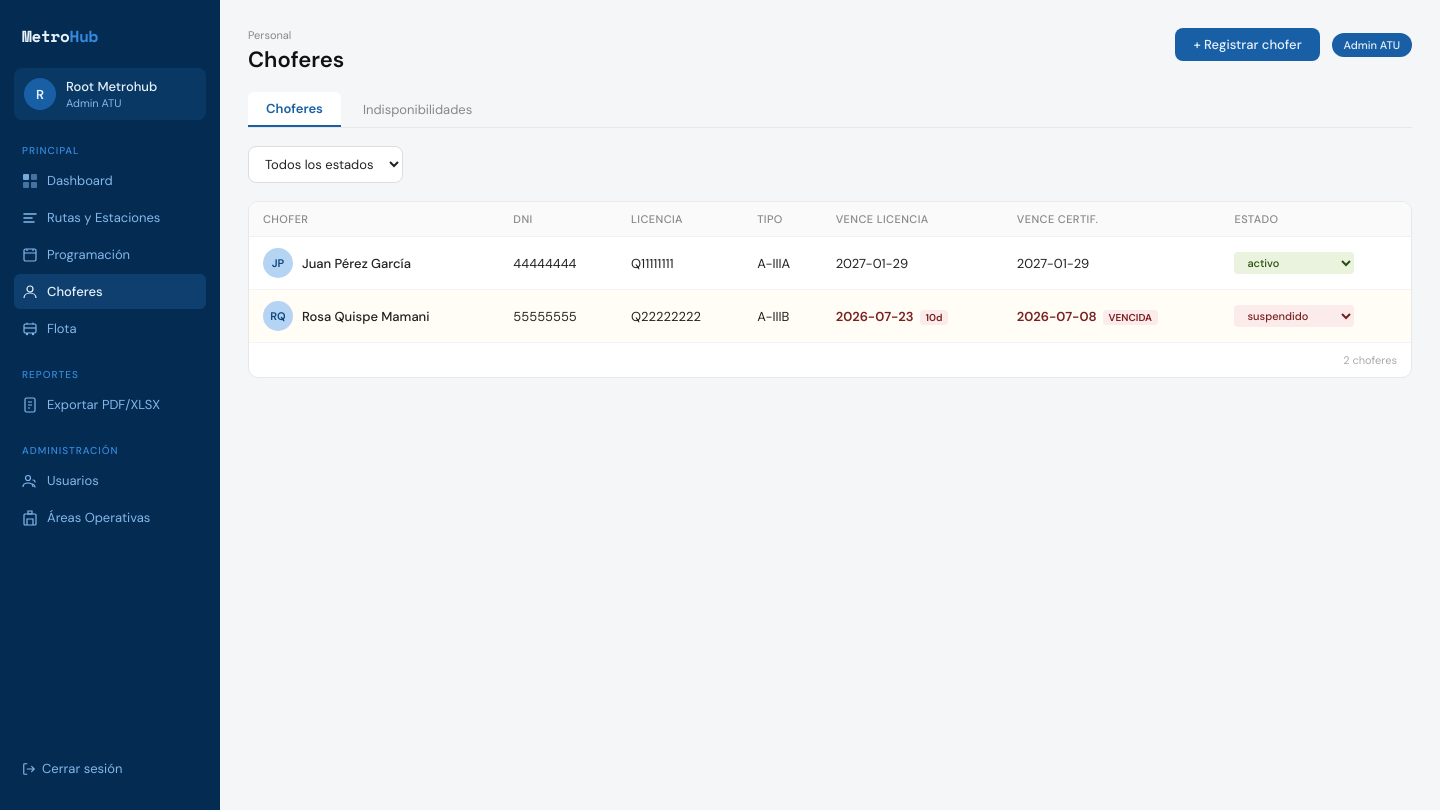
Test: Choferes (RF03) › la pestaña Indisponibilidades lista los registros y permite eliminar
Check: the text "Juan Pérez García" is shown, box [302,254,411,272]
Click the button "Indisponibilidades". click: (418, 110)
box: [345,92,490,127]
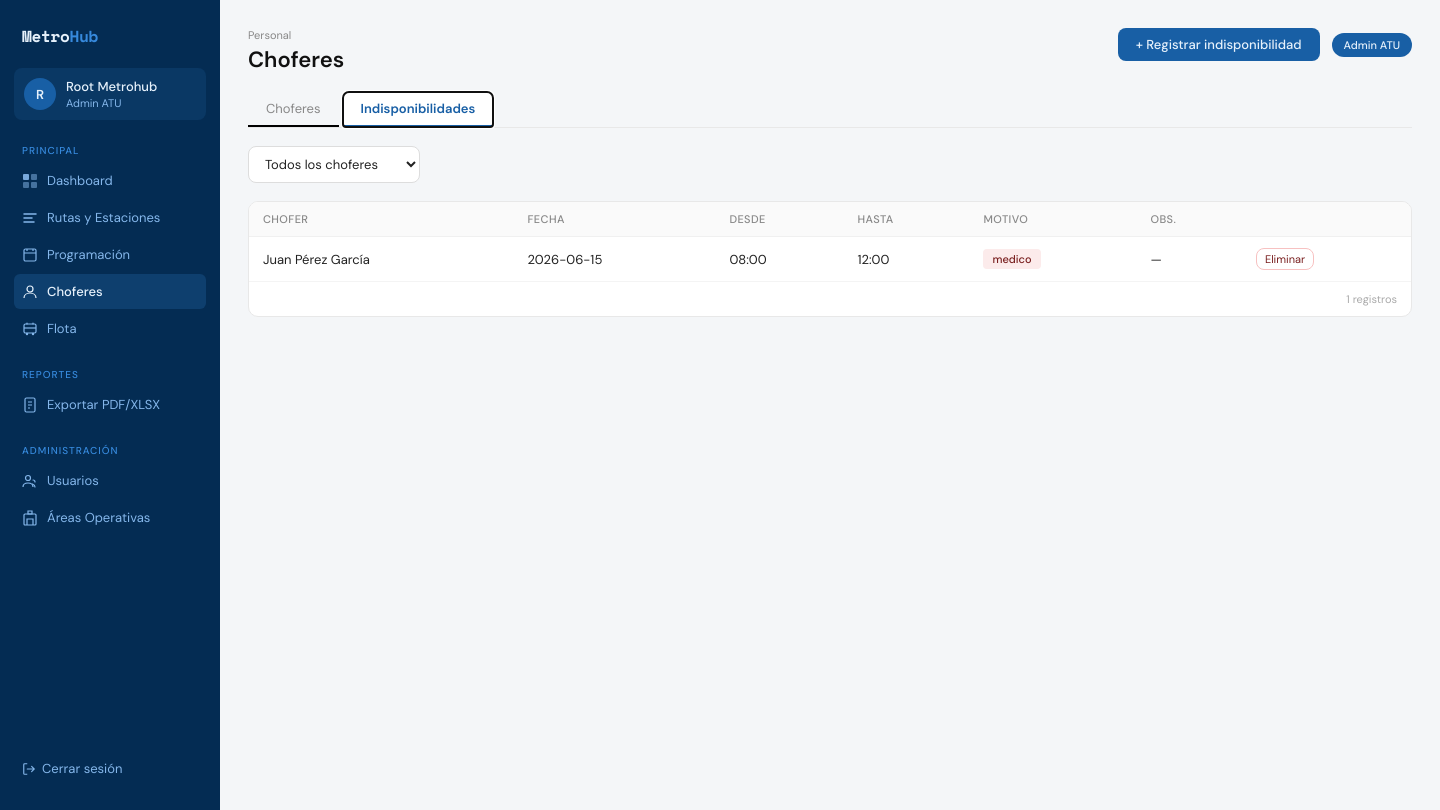
Check: the text "medico" is shown, box [992,252,1032,266]
Check: the text "2026-06-15" is shown, box [528,250,602,268]
Check: the text "1 registros" is shown, box [1346,292,1397,306]
Click the button "Eliminar". click: (1285, 259)
box: [1256,248,1314,270]
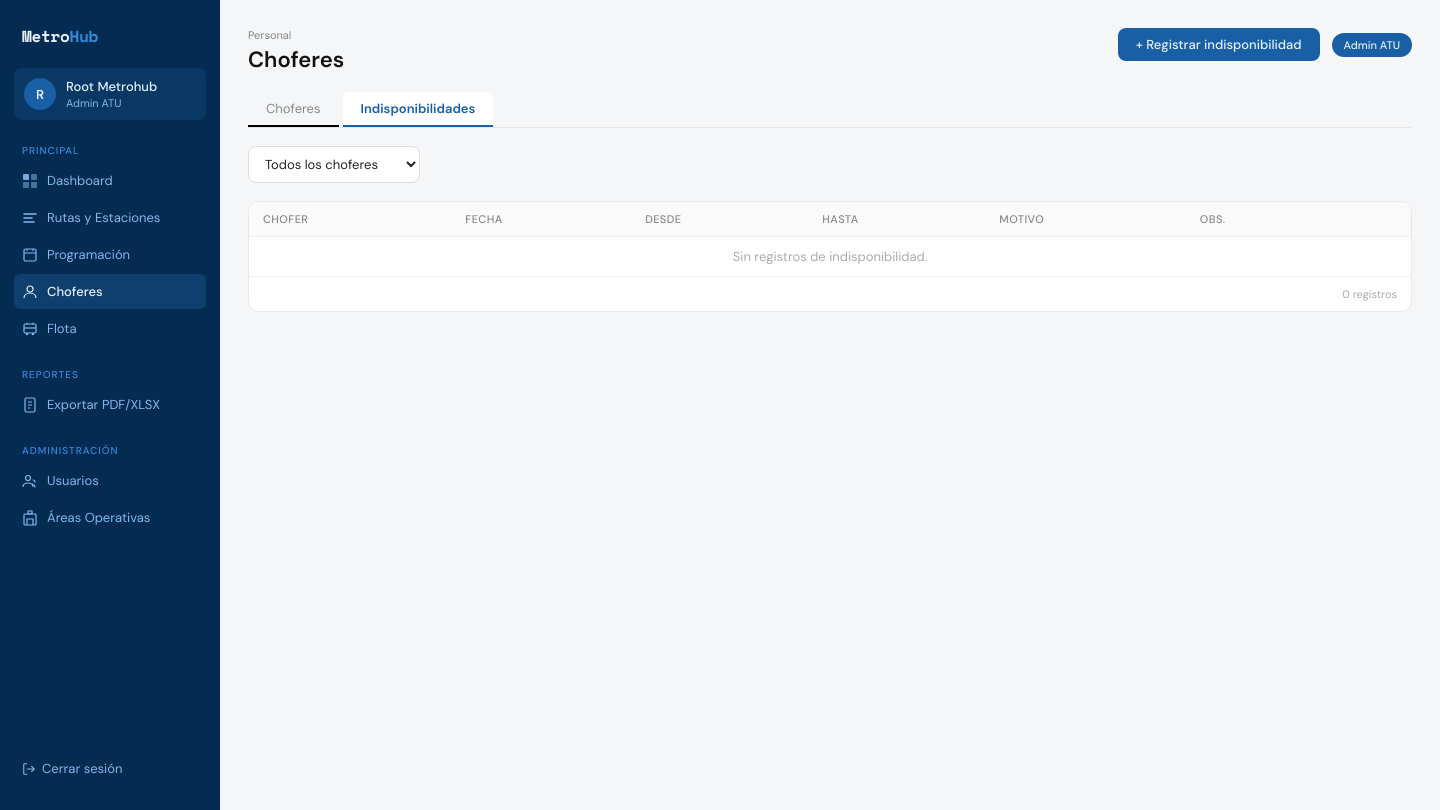
Check: the text "Sin registros de indisponibilidad." is shown, box [733,248,927,265]
